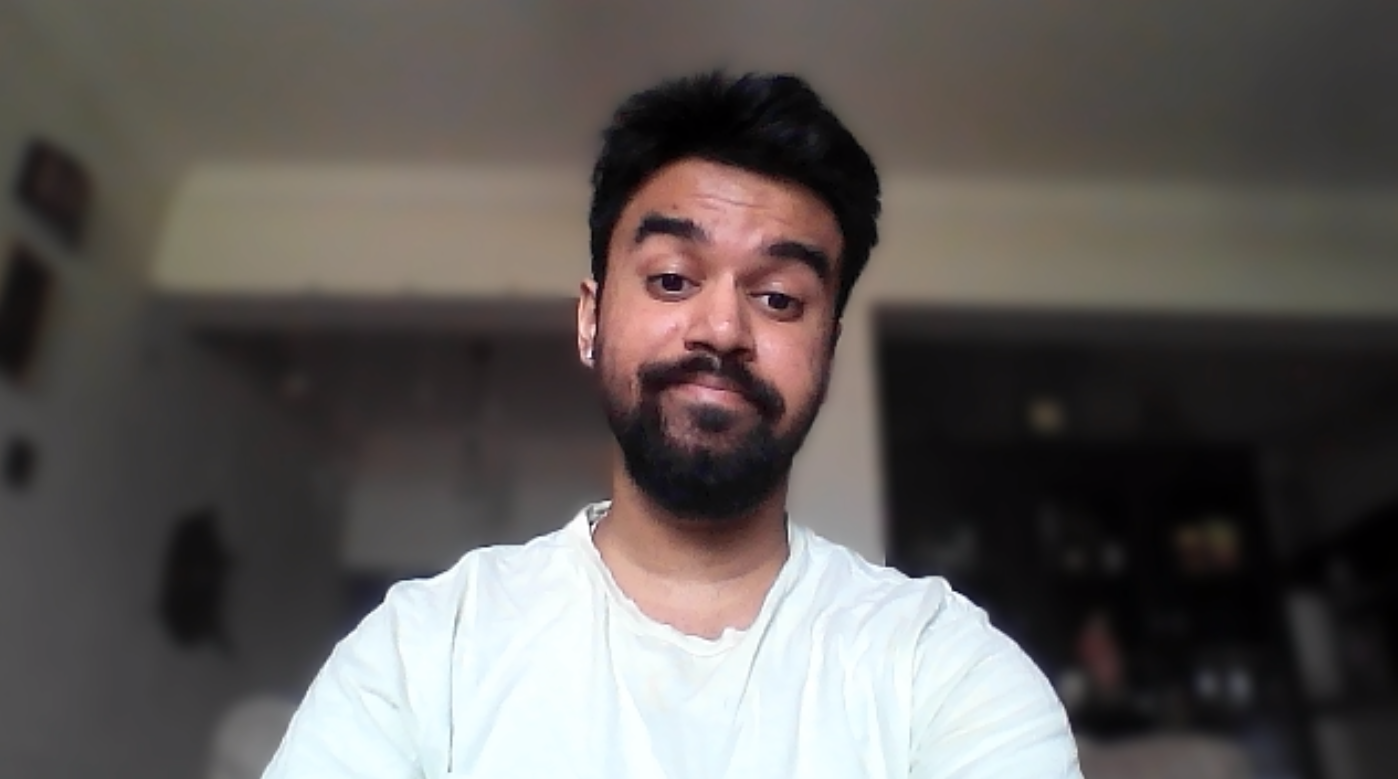NoMask: (601, 330, 844, 495)
